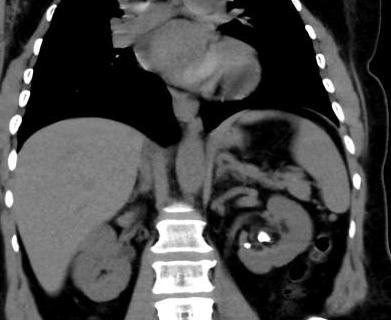Tas_Var: (256, 230, 274, 244), (243, 241, 251, 252)
